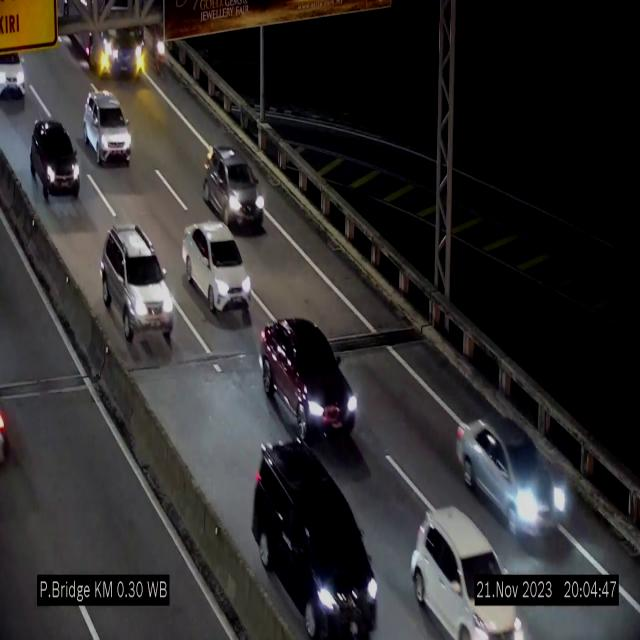Bus: (63, 0, 149, 86)
Car: (252, 441, 378, 638), (410, 509, 526, 640), (458, 413, 565, 544), (261, 316, 357, 441), (101, 226, 175, 349), (182, 221, 252, 314), (202, 145, 266, 238), (32, 117, 82, 199), (83, 91, 131, 165), (0, 32, 36, 91)
Motorcycle: (148, 14, 170, 86)
